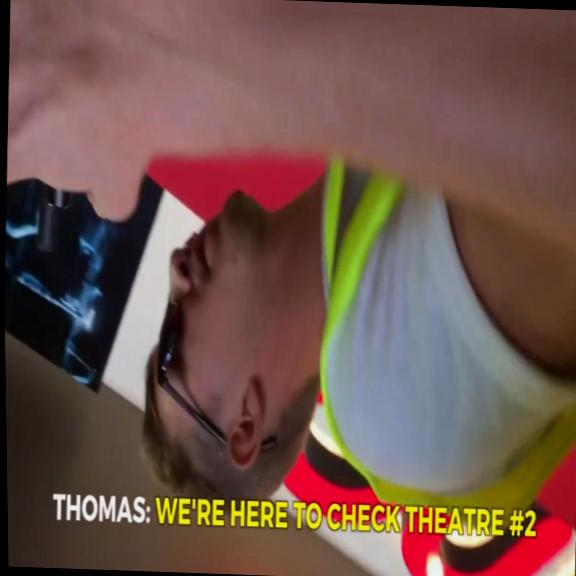safety_vest: (307, 143, 576, 526)
